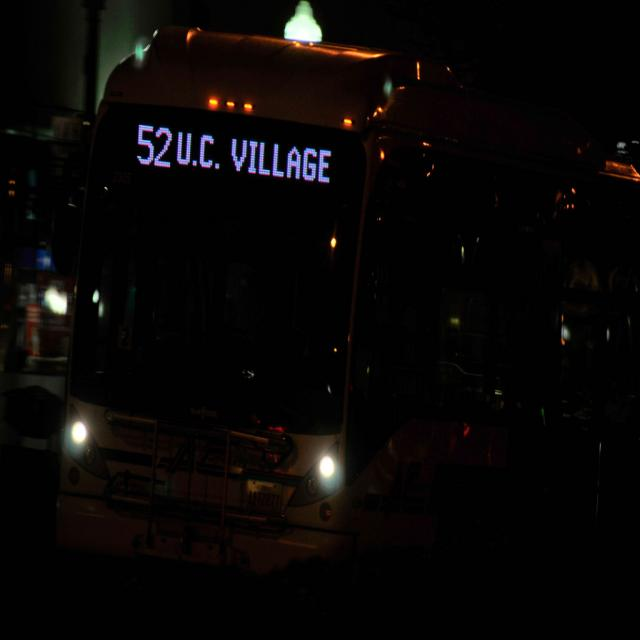Bus: (72, 0, 639, 585)
